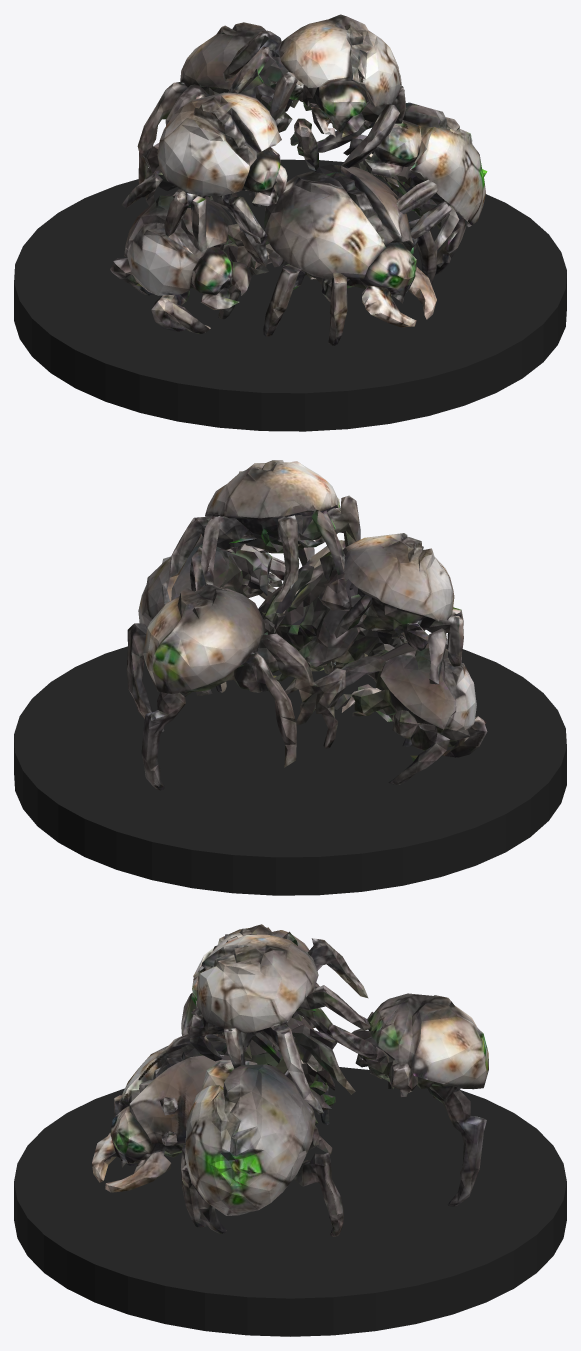
Rendered from canoptek-scarab.glb.
3 renders of one model, top to bottom at view 1: azimuth 30°, elevation 25°; view 2: azimuth 150°, elevation 25°; view 3: azimuth 270°, elevation 25°, orthographic.
Visible parts, largest first — view 1: figure, base; view 2: base, figure; view 3: base, figure.
Part boxes in pixels (bbox=[...]): figure: bbox=[110, 14, 487, 345]; base: bbox=[14, 159, 566, 431]; base: bbox=[14, 644, 566, 895]; figure: bbox=[126, 460, 487, 790]; base: bbox=[14, 1067, 566, 1336]; figure: bbox=[92, 924, 488, 1236].
Bounding box in the file's own units: 1.57 × 0.92 × 1.57.
Materials: 2 (1 with a texture image).
